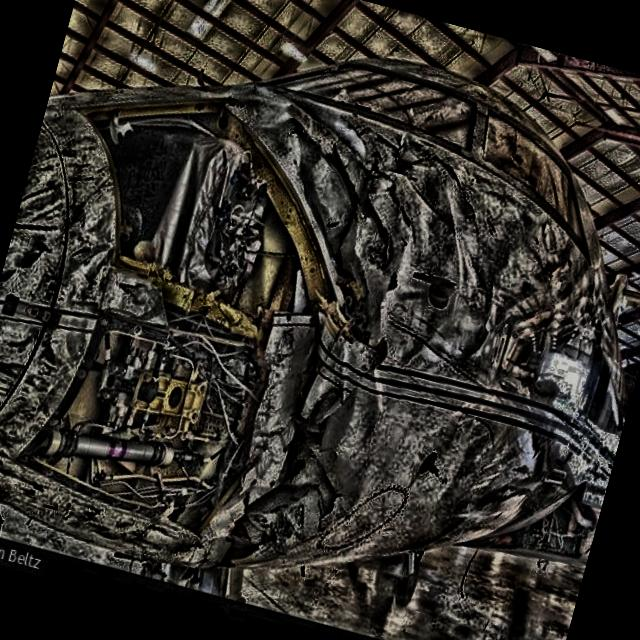crack: (392, 138, 493, 224), (306, 460, 352, 522)
